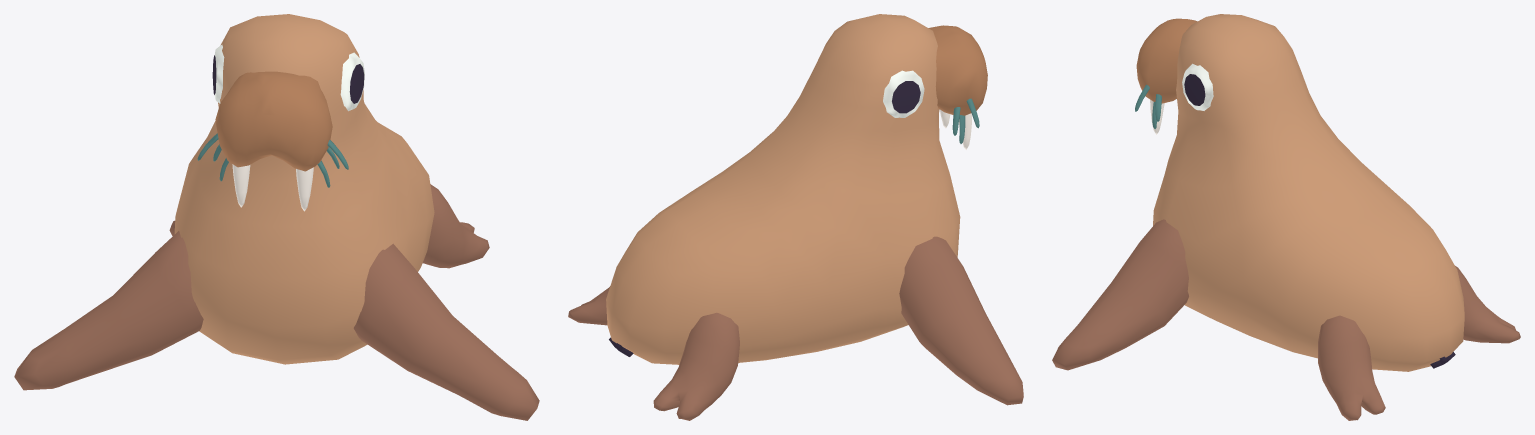
File: walrus.gltf
The picture shows the model from 3 angles, left to right: view 1: azimuth 30°, elevation 25°; view 2: azimuth 150°, elevation 25°; view 3: azimuth 270°, elevation 25°; orthographic projection. The views are drawn at different scales.
Visible parts, largest first — view 1: huitugou_5168_83; view 2: huitugou_5168_83; view 3: huitugou_5168_83.
Part boxes in pixels (x1,y1,x2,y2): huitugou_5168_83: [14, 14, 539, 420]; huitugou_5168_83: [568, 14, 1023, 420]; huitugou_5168_83: [1052, 14, 1520, 420].
Bounding box in the file's own units: 0.702 × 0.4831 × 0.7024.
1 material, 1 textured.
